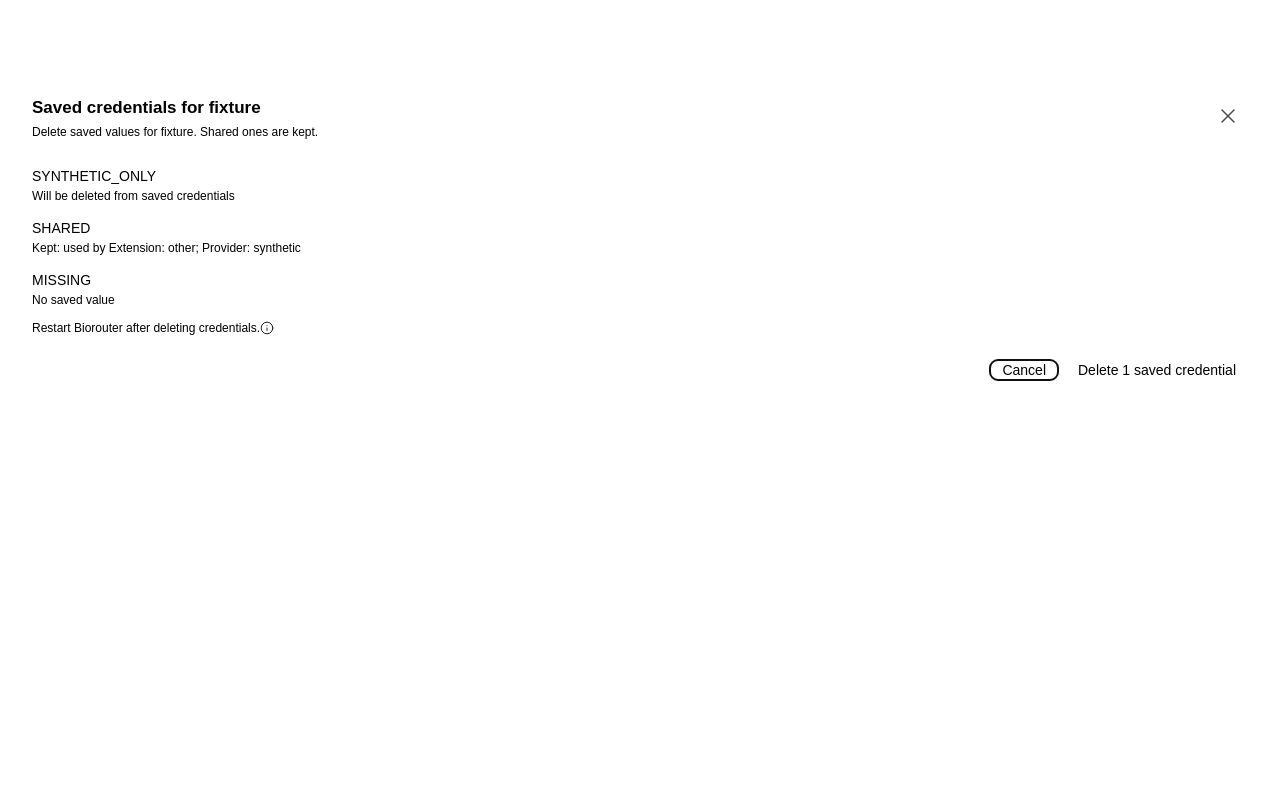
Test case: extension credential deletion › keeps the review open and reports failed deletion without claiming success
Click the button "Delete 1 saved credential". click: click(1157, 370)
box: [1066, 360, 1248, 380]
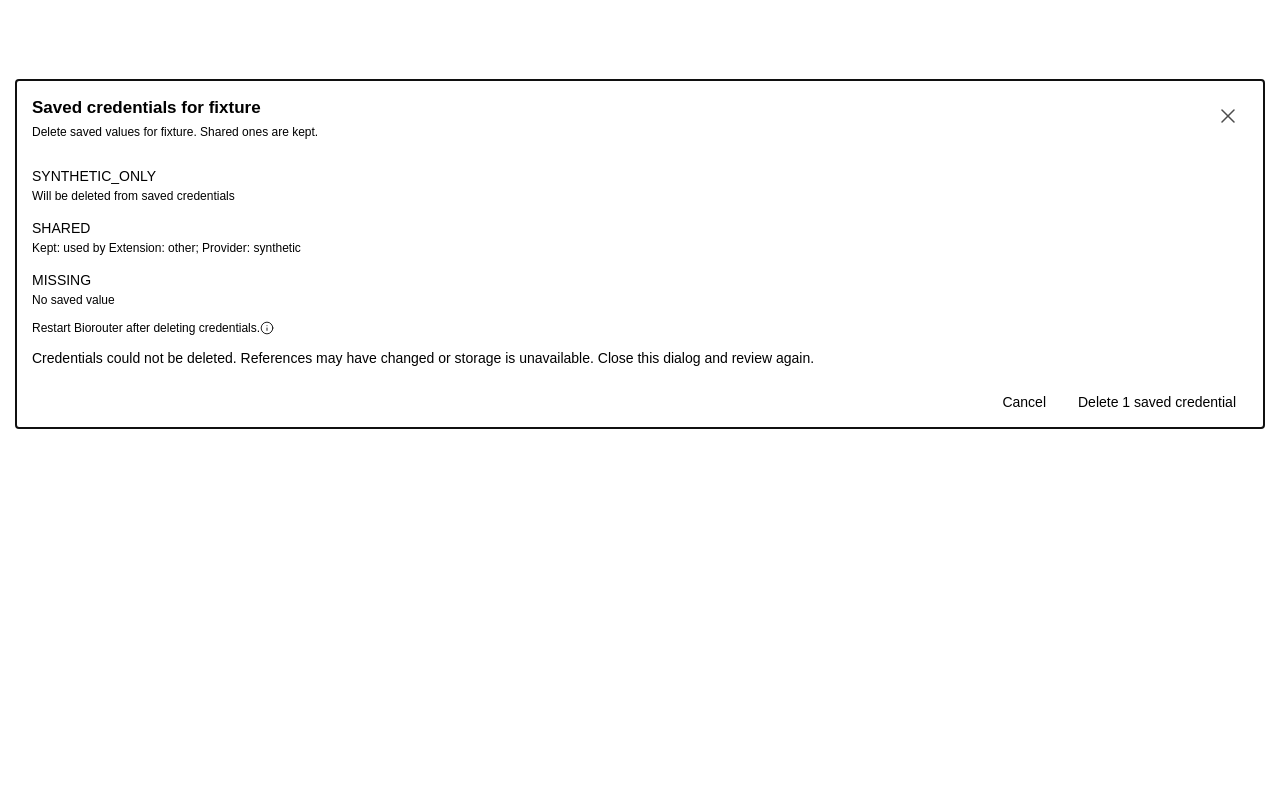
Expected: the message is shown, [32, 350, 814, 366]
Expected: the button "Delete 1 saved credential" is disabled, [1066, 392, 1248, 412]
